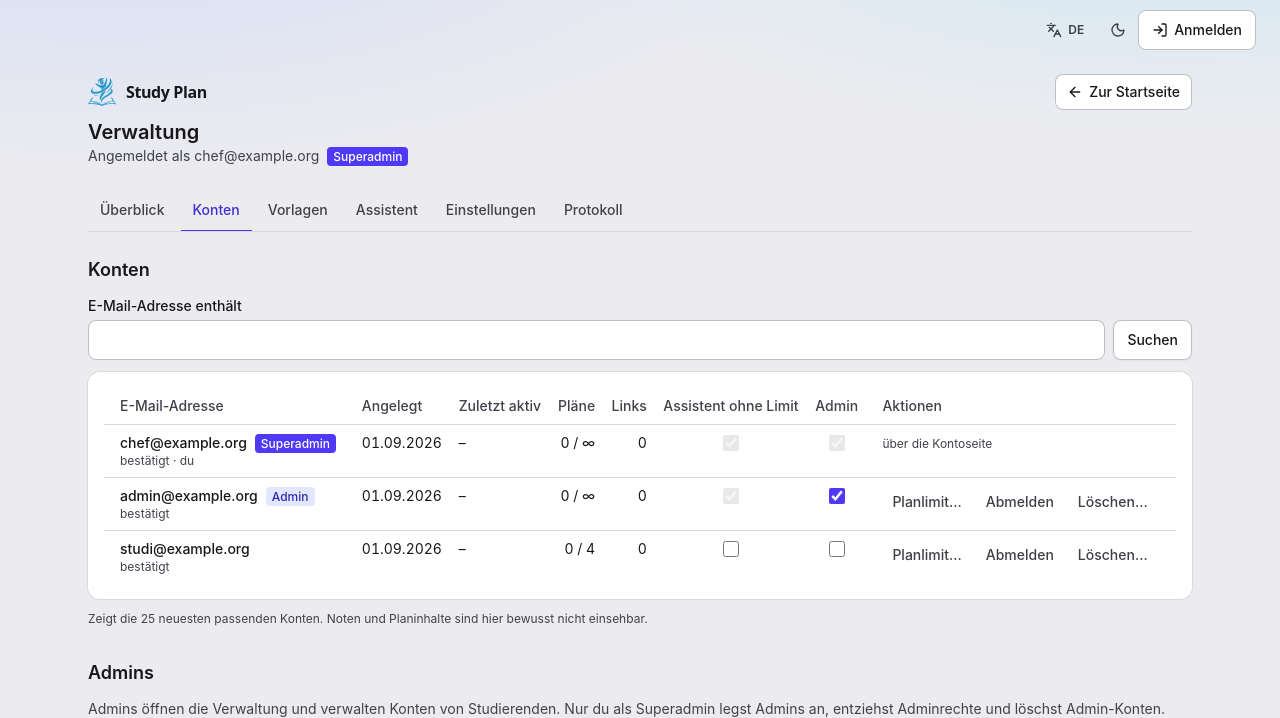
Test: admin roles in the dashboard › lets the superadmin manage admins and keeps the superadmin account untouchable
Expected: the text "studi@example.org" is shown, top-left (120, 540), bottom-right (250, 557)
Expected: the checkbox named "Adminrechte für admin@example.org" is checked, top-left (829, 488), bottom-right (845, 504)
Ticking the box asks before granting admin rights.
Click the checkbox named "Adminrechte für studi@example.org": click(837, 549) top-left (829, 541), bottom-right (845, 557)
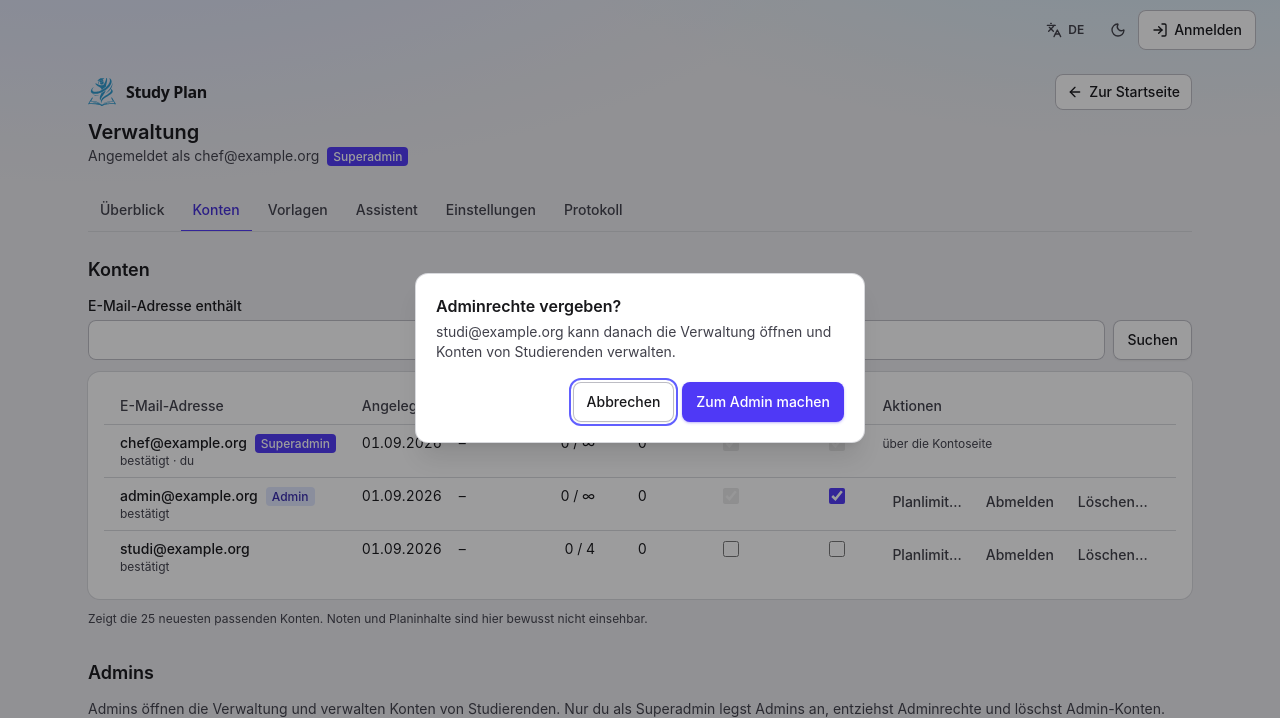
Click the button "Abbrechen": click(623, 402) top-left (572, 382), bottom-right (674, 422)
(page scrolled)
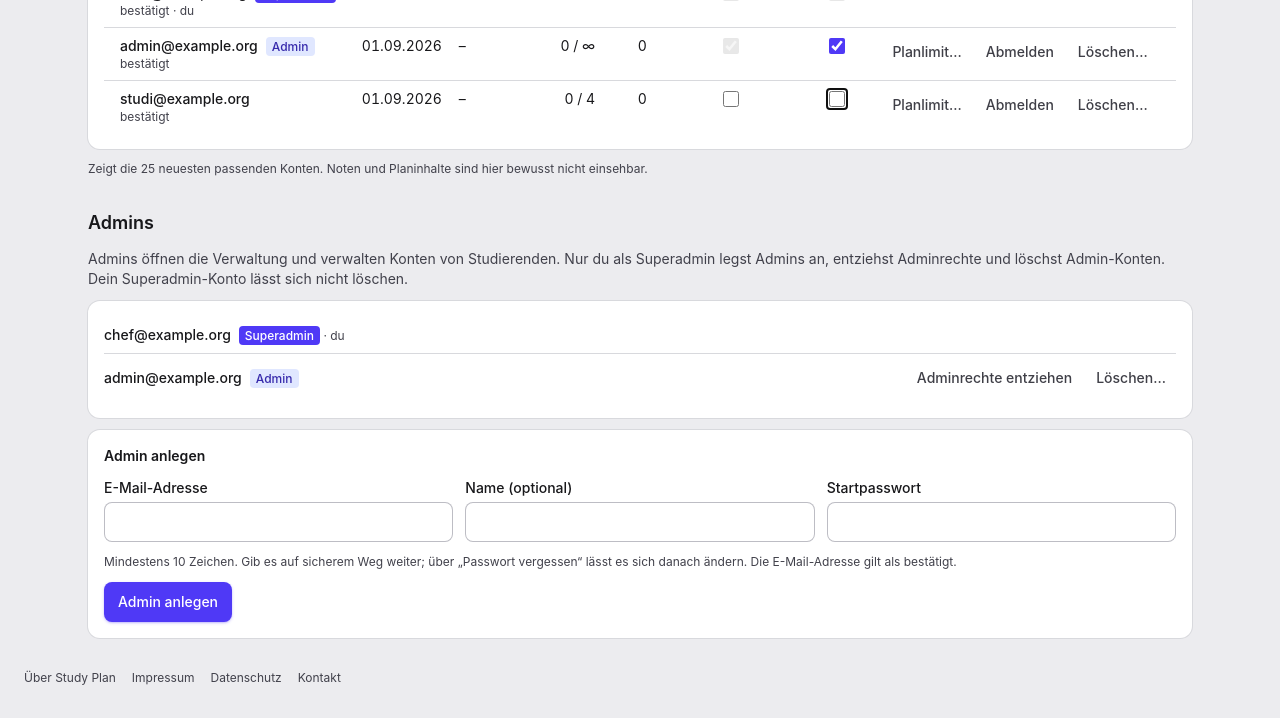
Expected: the checkbox named "Adminrechte für studi@example.org" is not checked, top-left (829, 91), bottom-right (845, 107)
In the field labelled "E-Mail-Adresse": (279, 522) top-left (104, 502), bottom-right (453, 542), type "Neu@example.org"
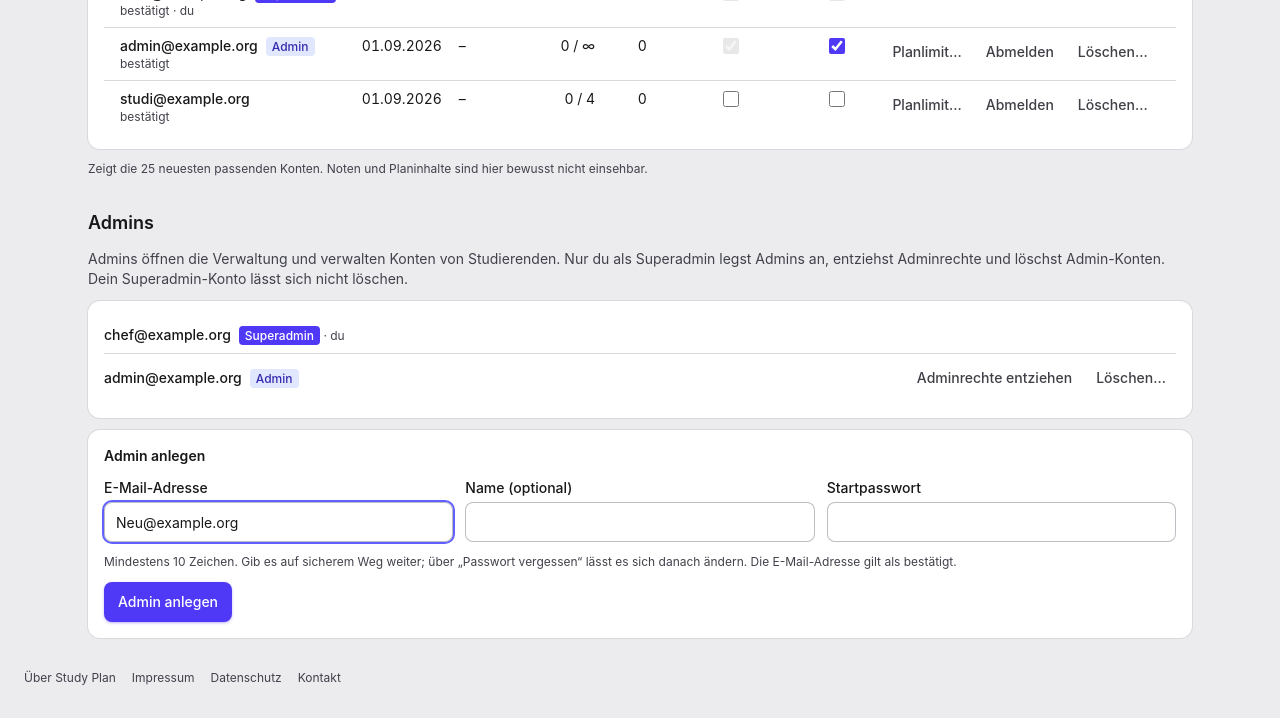
In the password field labelled "Startpasswort": (1001, 522) top-left (827, 502), bottom-right (1176, 542), type "ein-startpasswort"
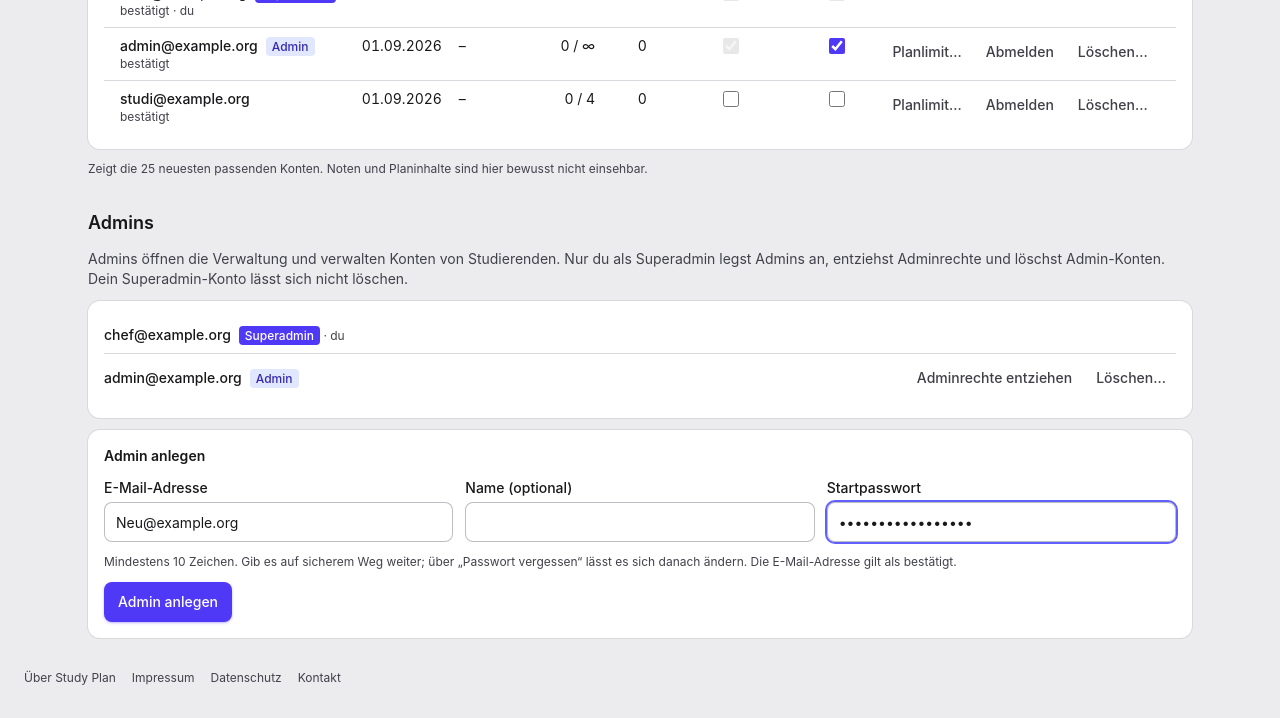
Click the button "Admin anlegen": click(168, 602) top-left (104, 582), bottom-right (232, 622)
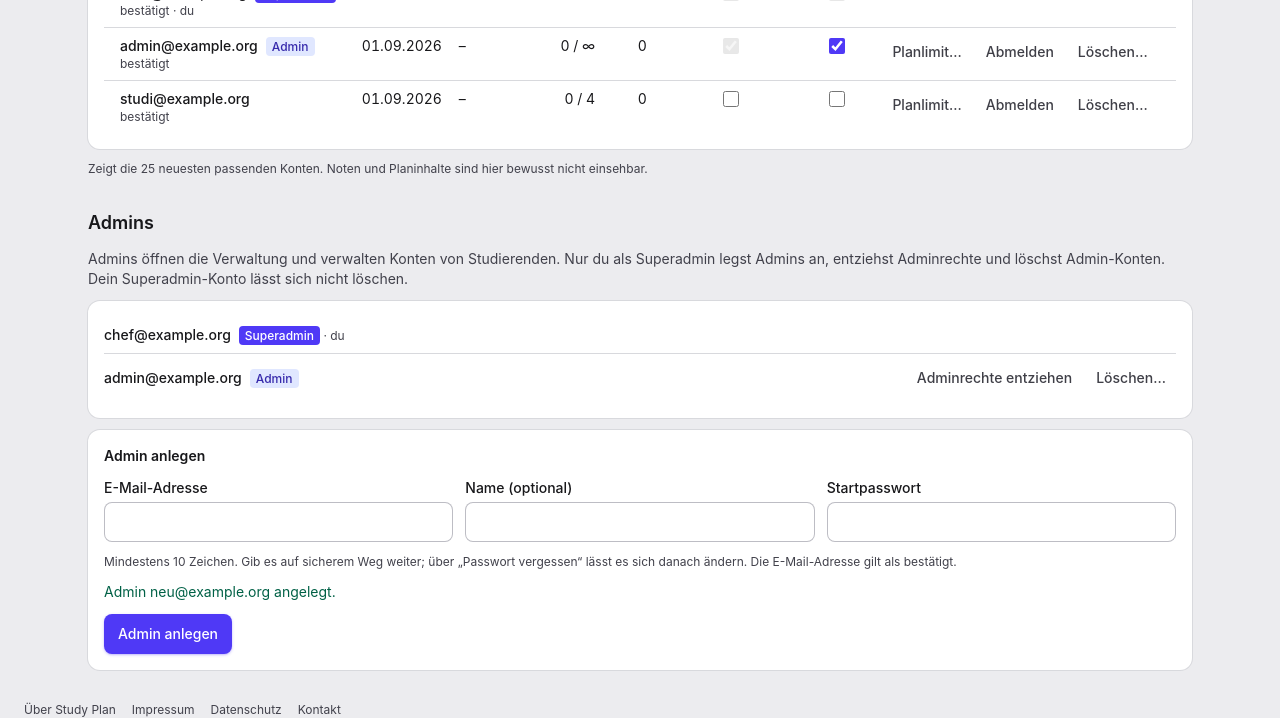
Expected: the text "Admin neu@example.org angelegt." is shown, top-left (104, 583), bottom-right (336, 600)
